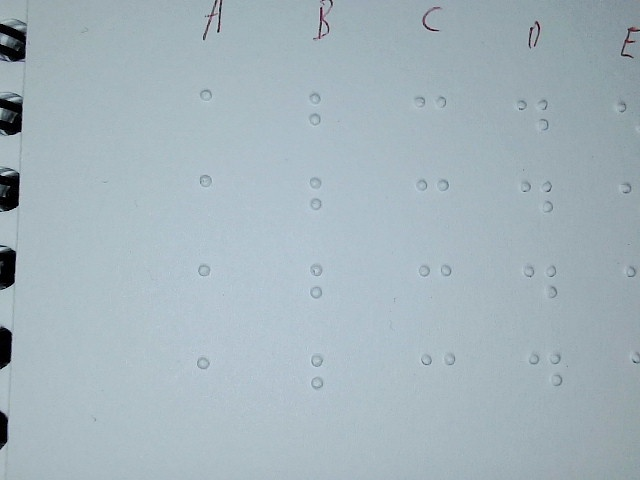A: (191, 81, 240, 153), (191, 167, 240, 239), (190, 257, 239, 329), (190, 350, 239, 422)
B: (300, 86, 350, 159), (301, 169, 351, 242), (302, 255, 352, 328), (304, 345, 354, 418)
C: (408, 88, 455, 154), (409, 173, 456, 239), (412, 258, 459, 324), (416, 345, 463, 411)
